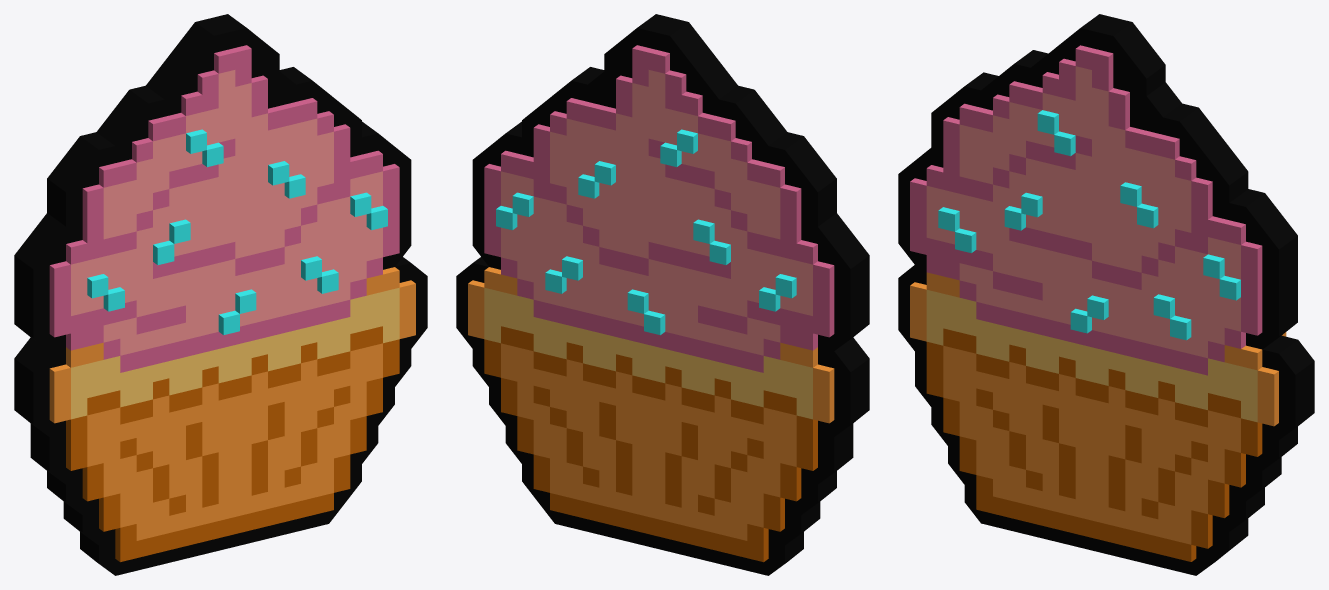
Rendered from cupcake.glb.
3 renders of one model, left to right at view 1: azimuth 30°, elevation 25°; view 2: azimuth 150°, elevation 25°; view 3: azimuth 330°, elevation 25°, orthographic.
Visible parts, largest first — view 1: generated(Clone); view 2: generated(Clone); view 3: generated(Clone).
Part boxes in pixels (bbox=[...]): generated(Clone): bbox=[14, 14, 427, 575]; generated(Clone): bbox=[456, 14, 869, 575]; generated(Clone): bbox=[898, 14, 1314, 575].
Bounding box in the file's own units: 24 × 30 × 4.
